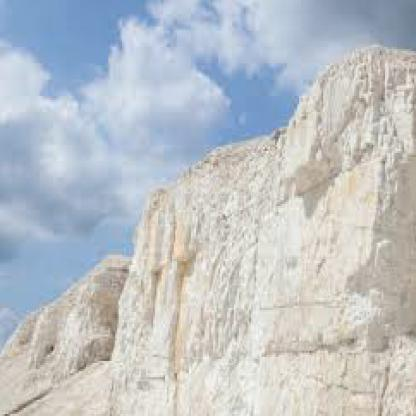Sedimentary_Chalk: (337, 59, 414, 414), (208, 165, 275, 414), (277, 141, 335, 414), (142, 214, 204, 414), (79, 300, 141, 414)
